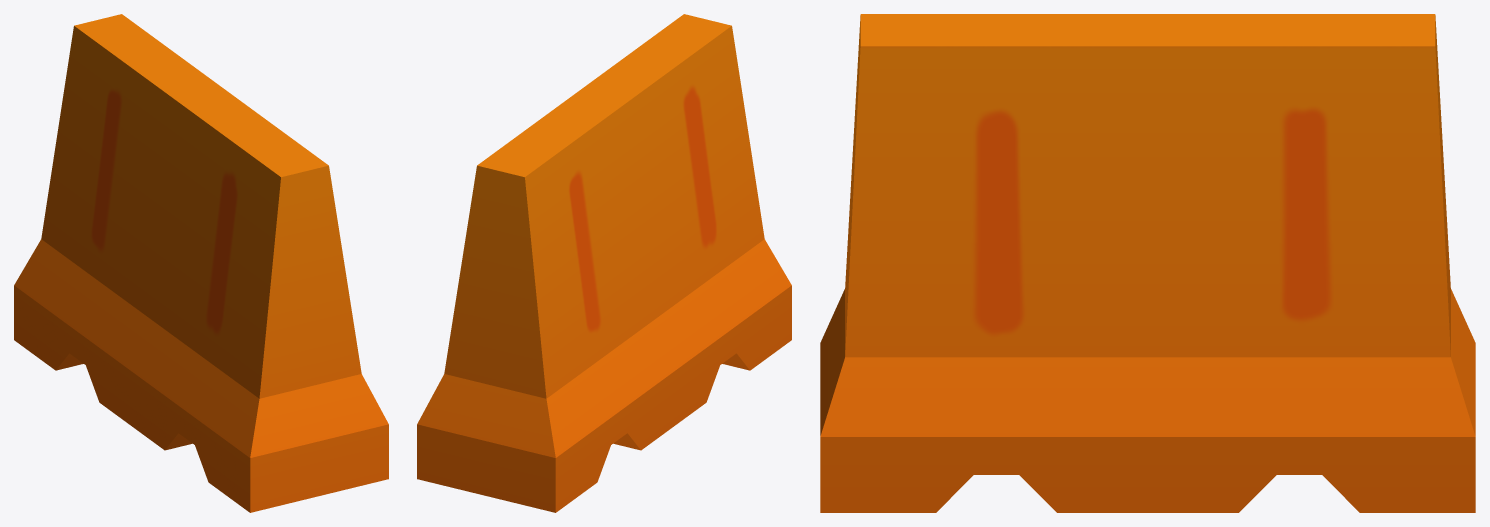
The model's file is bembatas 2.fbx.
3 renders of one model, left to right at view 1: azimuth 30°, elevation 25°; view 2: azimuth 150°, elevation 25°; view 3: azimuth 270°, elevation 25°, orthographic. The views are drawn at different scales.
Parts seen in each view (by area): view 1: Cube.001; view 2: Cube.001; view 3: Cube.001.
Boxes of the visible parts, bbox=[...] form: Cube.001: bbox=[14, 14, 388, 512]; Cube.001: bbox=[417, 14, 791, 512]; Cube.001: bbox=[820, 14, 1475, 512].
Bounding box in the file's own units: 97.17 × 210 × 286.
